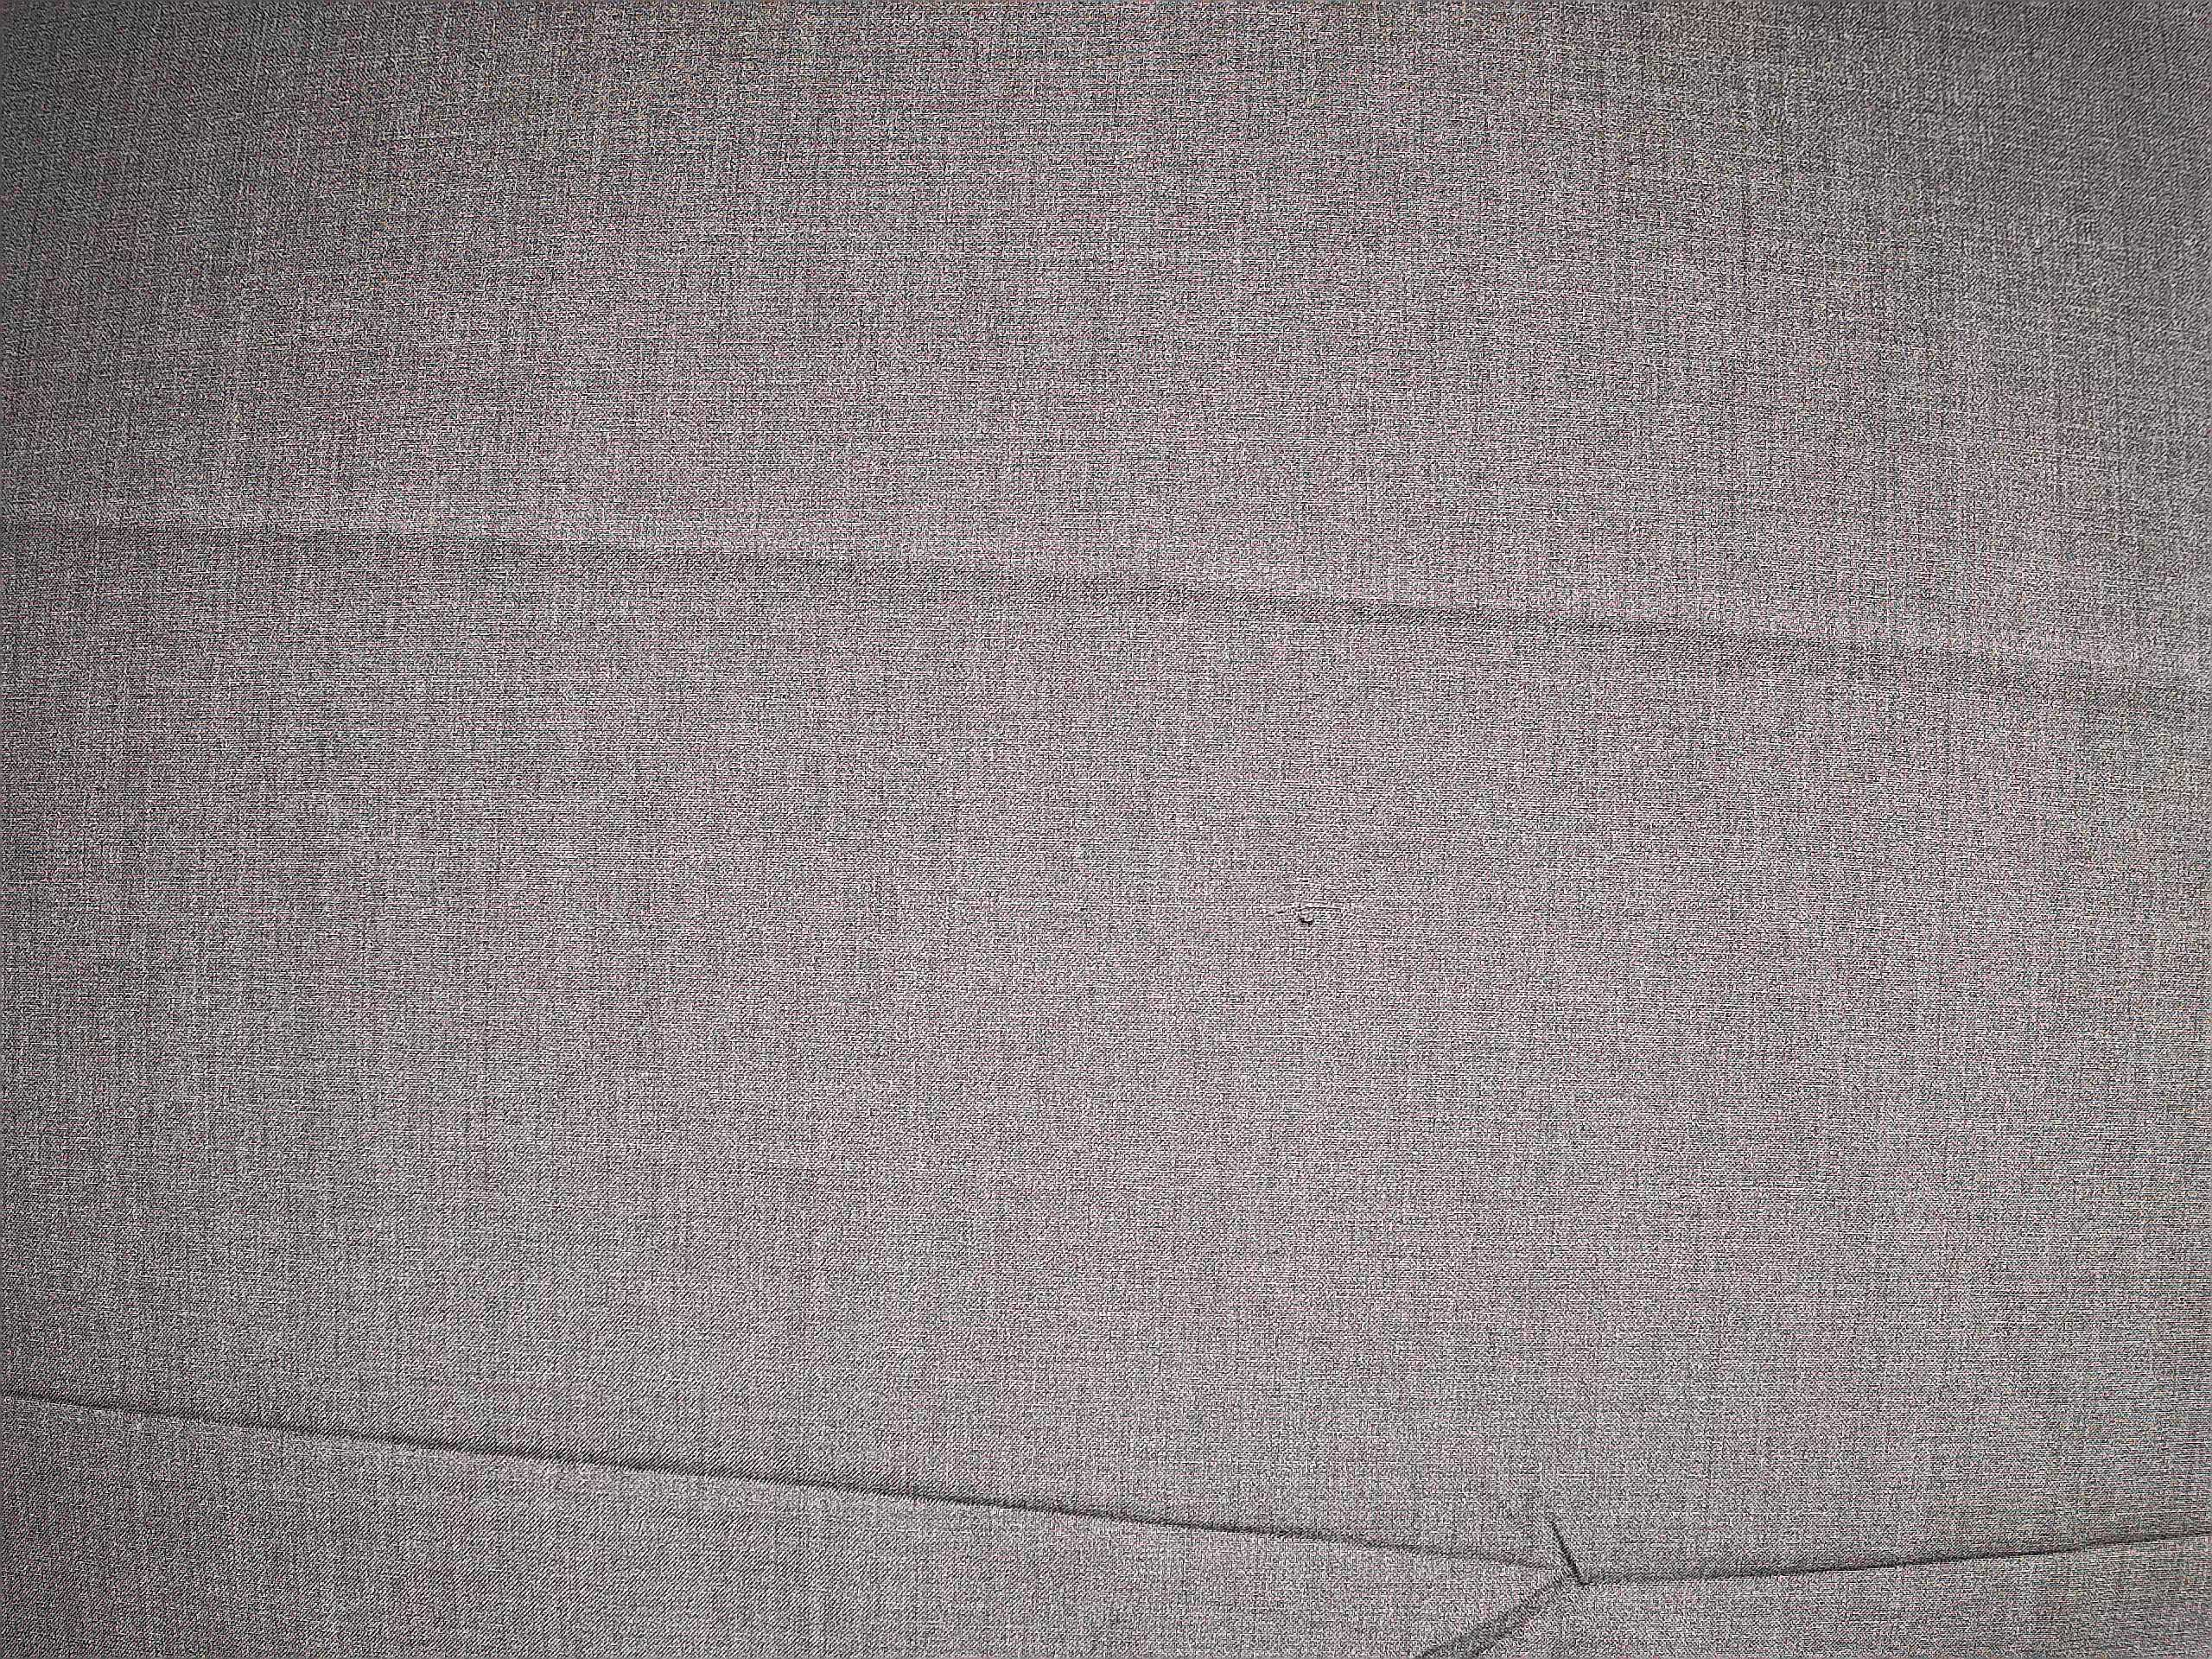jumps: (1214, 878, 1406, 938)
